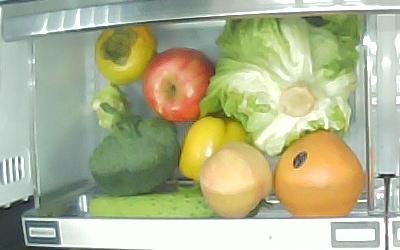apple: (143, 47, 216, 122)
broccoli: (90, 82, 182, 195)
cucumber: (89, 187, 216, 217)
grapefruit: (274, 131, 363, 217)
lettuce: (215, 15, 360, 155)
paprika: (180, 117, 248, 180)
peach: (200, 143, 272, 218)
persimmon: (95, 25, 158, 85)
